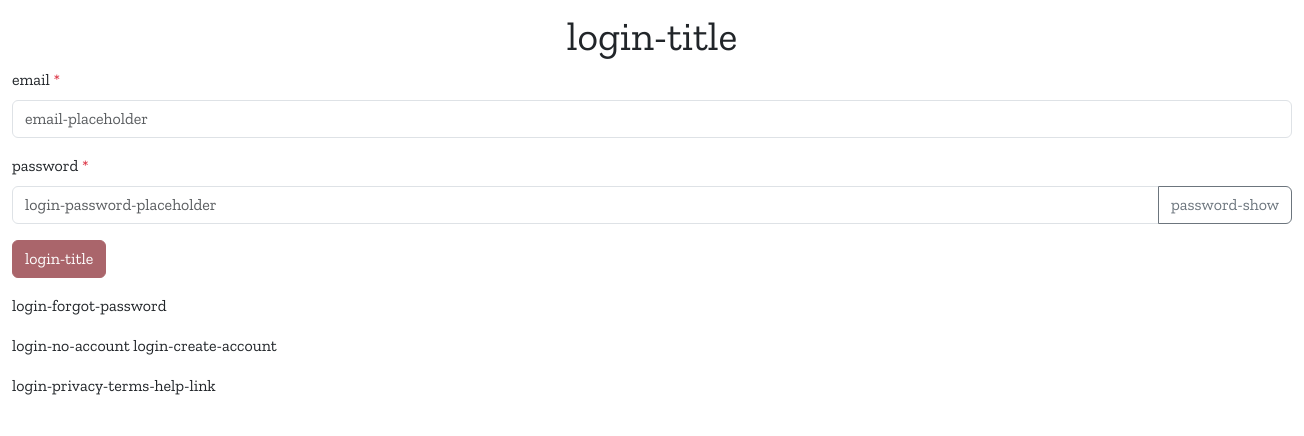
Test: Login › renders and displays error when value is invalid
The width and height of the screenshot is (1304, 436).
Expected: the number of headings "login-title" is 2, [567, 12, 737, 60]; [12, 240, 106, 278]
Expected: the text "login-forgot-password" is shown, [12, 296, 166, 315]
Type "test" into the field with placeholder "email-placeholder" at (652,119), box [12, 100, 1292, 138]
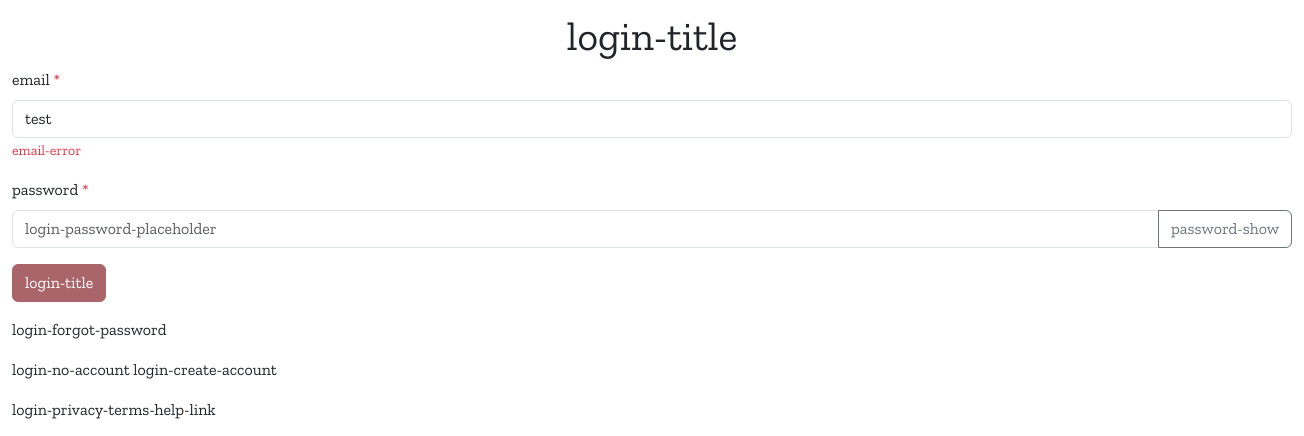
Expected: the button "login-title" is disabled, [12, 264, 106, 302]
Now the text "email-error" is shown, box [12, 142, 81, 159]
Replace the text in the field with placeholder "email-placeholder" with "test@example.com" at (652,119), box [12, 100, 1292, 138]
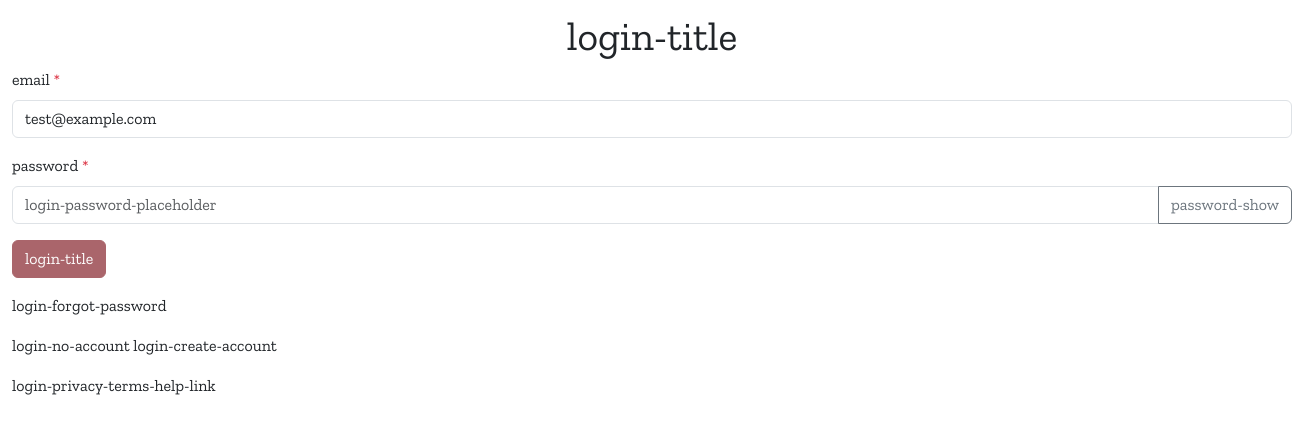
Now the text "email-error" is gone
Type "test" into the password field with placeholder "login-password-placeholder" at (586,205), box [12, 186, 1159, 224]
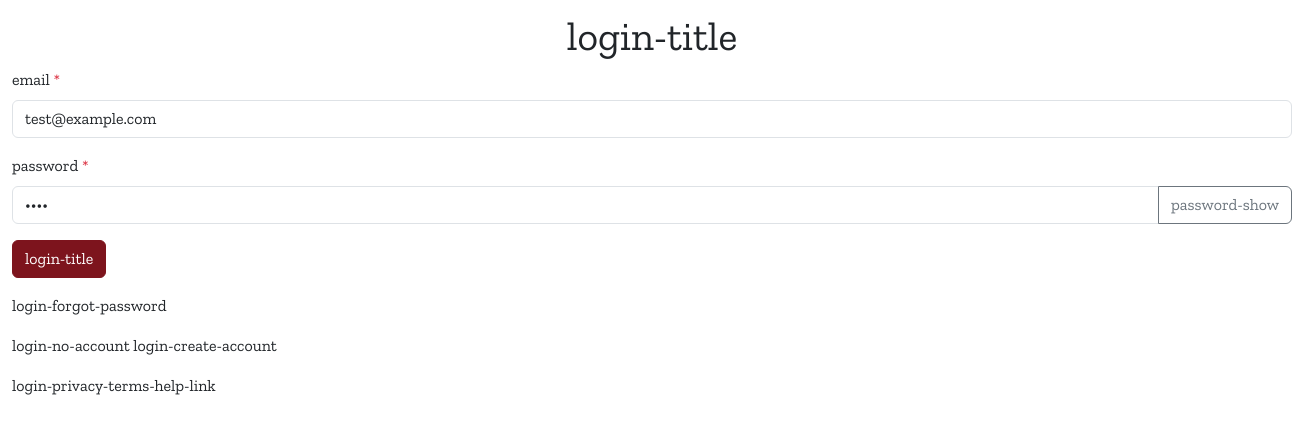
Clear the password field with placeholder "login-password-placeholder" at (586,205), box [12, 186, 1159, 224]
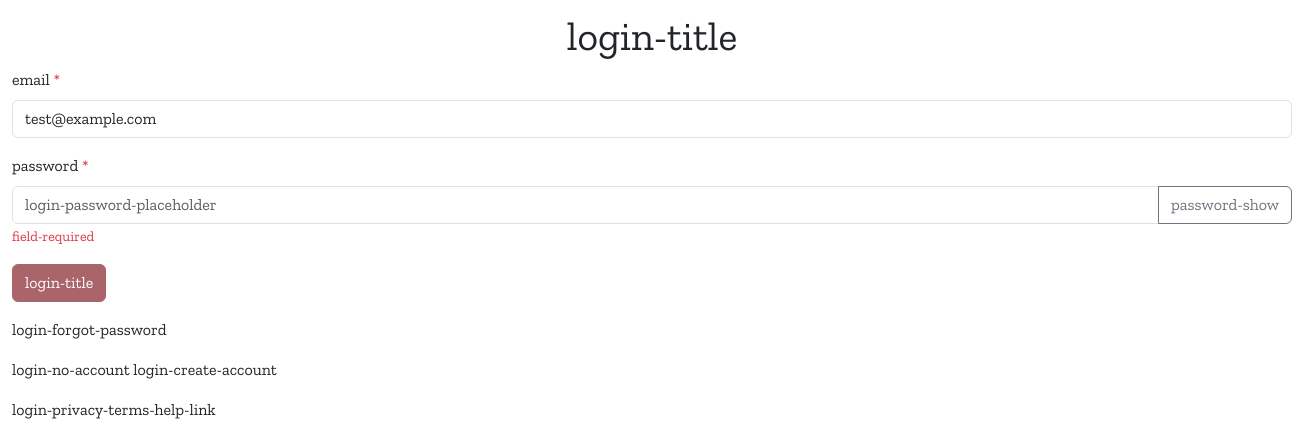
Now the text "field-required" is shown, box [12, 228, 94, 245]
Type "test" into the password field with placeholder "login-password-placeholder" at (586,205), box [12, 186, 1159, 224]
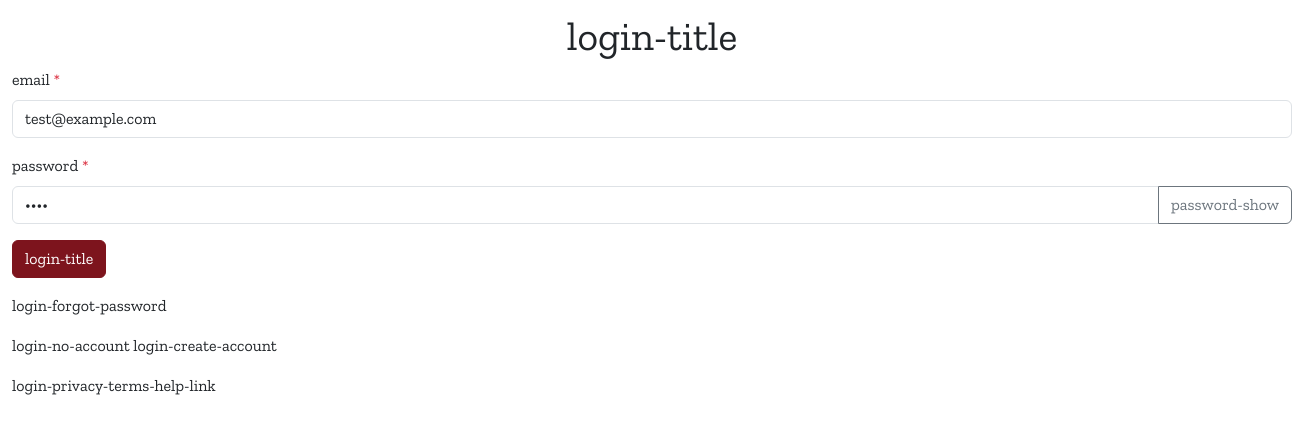
Now the text "field-required" is gone
Now the button "login-title" is enabled, box [12, 240, 106, 278]
